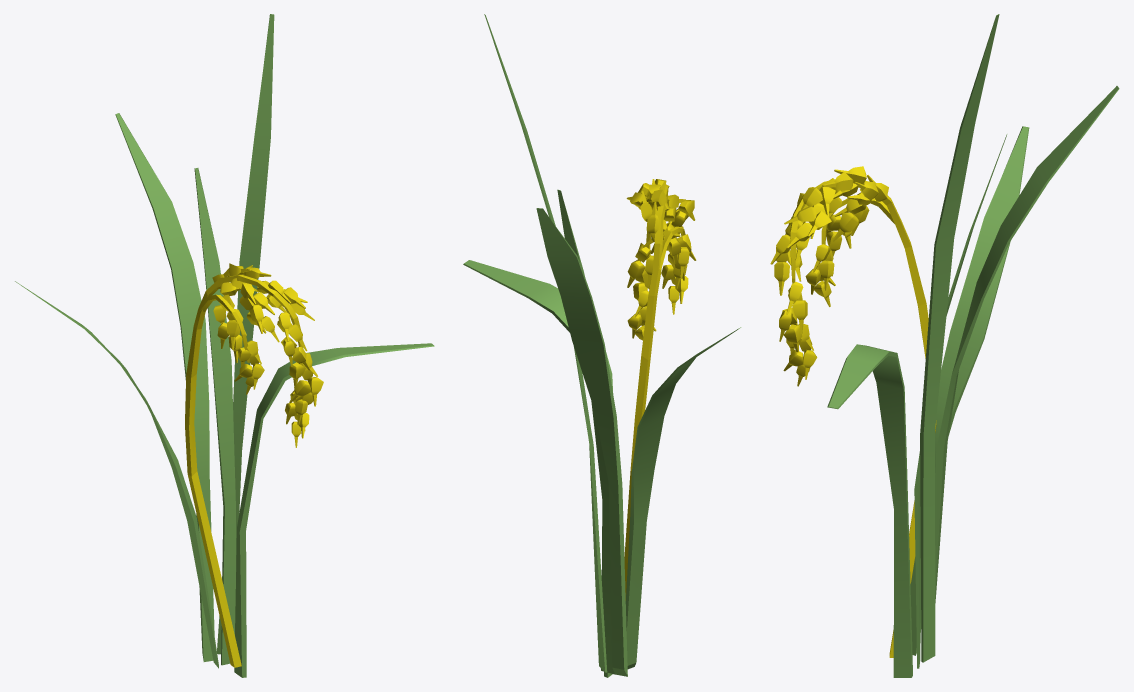
File: rice_plant.glb
3 renders of one model, left to right at view 1: azimuth 30°, elevation 25°; view 2: azimuth 150°, elevation 25°; view 3: azimuth 270°, elevation 25°, orthographic. The views are drawn at different scales.
Visible parts, largest first — view 1: Object_3, Object_4; view 2: Object_3, Object_4; view 3: Object_3, Object_4.
Boxes of the visible parts, left/top/right/bottom form: Object_3: left=15, top=14, right=434, bottom=677; Object_4: left=185, top=263, right=323, bottom=667; Object_3: left=463, top=14, right=741, bottom=677; Object_4: left=624, top=179, right=696, bottom=600; Object_3: left=827, top=14, right=1119, bottom=677; Object_4: left=770, top=166, right=936, bottom=657.
Size of the model in its own units: 37.52 by 65.75 by 29.6.
